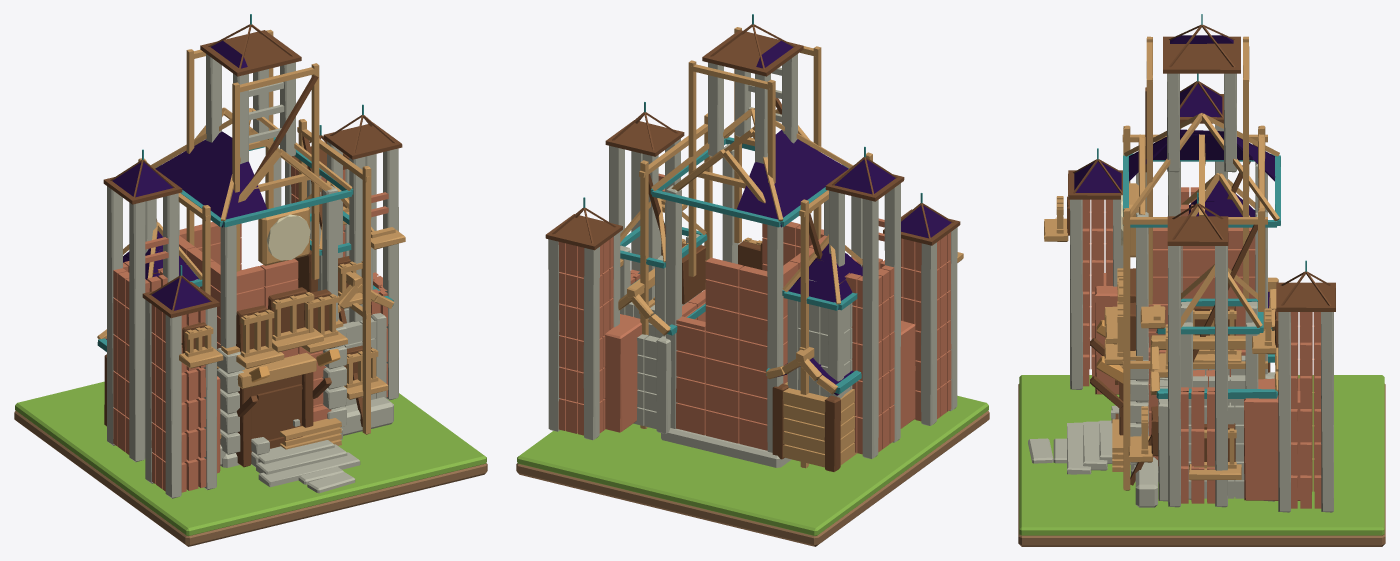
The model's file is town_hall_l15_construction_LOD1.glb.
The picture shows the model from 3 angles, left to right: view 1: azimuth 30°, elevation 25°; view 2: azimuth 150°, elevation 25°; view 3: azimuth 270°, elevation 25°; orthographic projection. The views are drawn at different scales.
Visible parts, largest first — view 1: town_hall_l15_construction_foundation.001, town_hall_l15_construction_grass_tile.001, town_hall_l15_construction_earth_tile.001, town_hall_l15_construction_path_stone.005; view 2: town_hall_l15_construction_foundation.001, town_hall_l15_construction_grass_tile.001, town_hall_l15_construction_earth_tile.001; view 3: town_hall_l15_construction_foundation.001, town_hall_l15_construction_grass_tile.001, town_hall_l15_construction_earth_tile.001, town_hall_l15_construction_path_stone.005.
Boxes of the visible parts, x1,y1,x2,y2 form: town_hall_l15_construction_foundation.001: (97,14,405,498); town_hall_l15_construction_grass_tile.001: (15,381,486,535); town_hall_l15_construction_earth_tile.001: (14,410,487,546); town_hall_l15_construction_path_stone.005: (307,472,355,493); town_hall_l15_construction_foundation.001: (545,14,963,471); town_hall_l15_construction_grass_tile.001: (517,395,988,535); town_hall_l15_construction_earth_tile.001: (516,410,989,546); town_hall_l15_construction_foundation.001: (1044,14,1335,512); town_hall_l15_construction_grass_tile.001: (1019,375,1384,535); town_hall_l15_construction_earth_tile.001: (1018,384,1385,546); town_hall_l15_construction_path_stone.005: (1028,438,1053,463).
Size of the model in its own units: 3.6 by 4.94 by 3.6.
